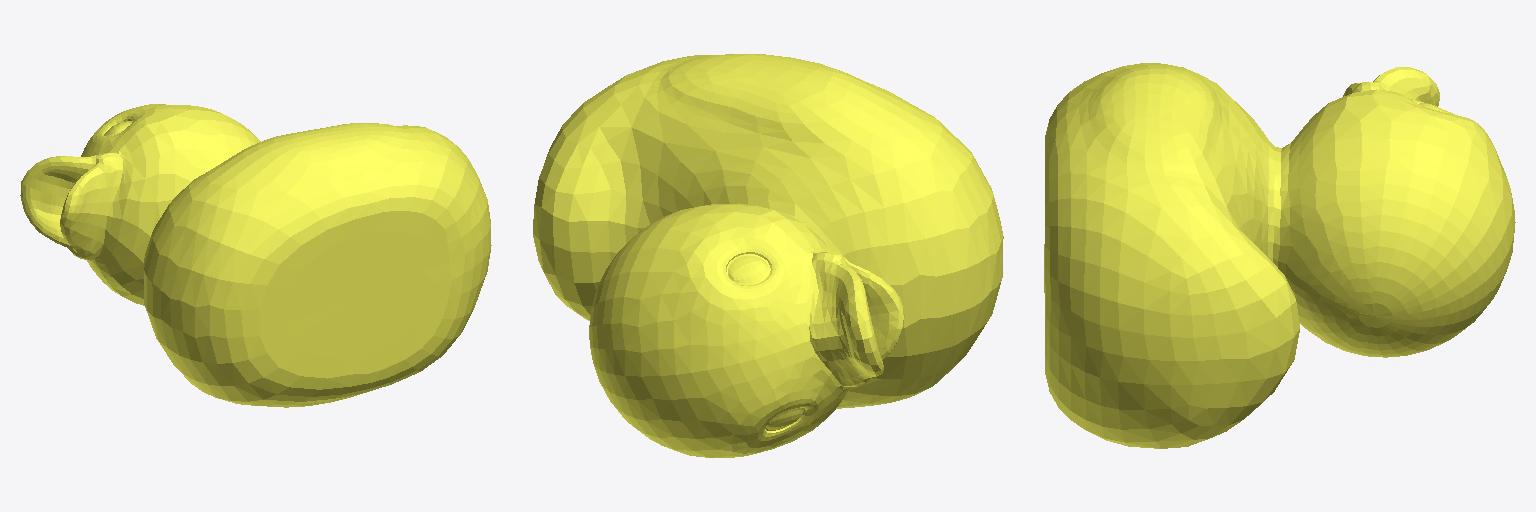
URDF robot description (cube.urdf):
<?xml version="1.0" ?>
<robot name="cube.urdf">
  <link name="baseLink">
    <contact>
      <lateral_friction value="1.0"/>
      <rolling_friction value="0.0"/>
      <contact_cfm value="0.0"/>
      <contact_erp value="1.0"/>
    </contact>
    <inertial>
      <origin rpy="0 0 0" xyz="0.0 0.02 0.0"/>
       <mass value=".1"/>
       <inertia ixx="1" ixy="0" ixz="0" iyy="1" iyz="0" izz="1"/>
    </inertial>
    <visual>
      <origin rpy="0 0 0" xyz="0 0 0"/>
      <geometry>
        <mesh filename="duck.obj" scale=".05 .05 .05"/>
      </geometry>
       <material name="yellow">
        <color rgba="1 1 0.4 1"/>
      </material>
    </visual>
    <collision>
      <origin rpy="0 0 0" xyz="0 0 0"/>
      <geometry>
	 	<mesh filename="duck_vhacd.obj" scale=".05 .05 .05"/>
      </geometry>
    </collision>
  </link>
</robot>


--- Render facts (derived) ---
The picture shows the robot from 3 angles, left to right: view 1: azimuth 30°, elevation 25°; view 2: azimuth 150°, elevation 25°; view 3: azimuth 270°, elevation 25°; orthographic projection.
Model cube.urdf with 1 links and 0 joints (none), rooted at baseLink, posed all joints at 0.
Visible links, largest first — view 1: baseLink; view 2: baseLink; view 3: baseLink.
Boxes of the visible links, x1,y1,x2,y2 form: baseLink: [20, 104, 491, 407]; baseLink: [533, 54, 1003, 457]; baseLink: [1044, 63, 1515, 448].
Size in the robot's own frame: 0.0824 by 0.0767 by 0.0575 metres.
1 mesh visuals loaded from 1 distinct referenced files (1 OBJ).